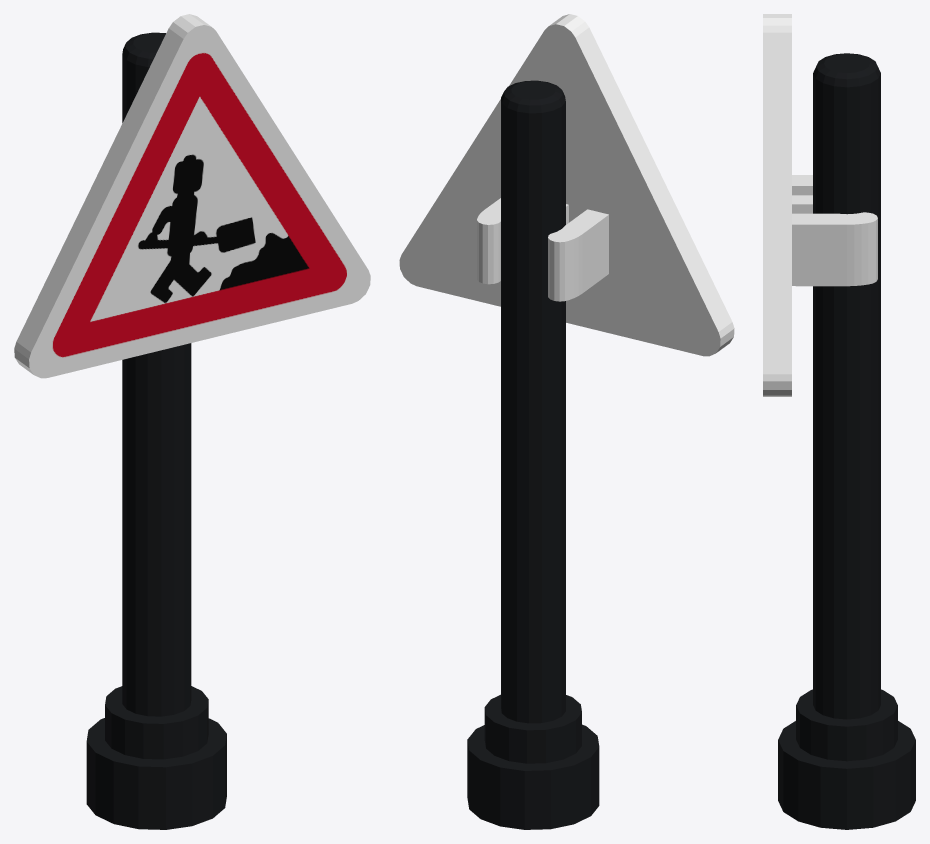
The model's file is Sign.dae.
3 renders of one model, left to right at view 1: azimuth 30°, elevation 25°; view 2: azimuth 150°, elevation 25°; view 3: azimuth 270°, elevation 25°, orthographic. The views are drawn at different scales.
Parts seen in each view (by area): view 1: Part.1, Part.0; view 2: Part.0, Part.1; view 3: Part.0, Part.1.
Part boxes in pixels (x1,y1,x2,y2): Part.1: (14, 14, 370, 378); Part.0: (86, 32, 226, 829); Part.0: (467, 80, 599, 829); Part.1: (399, 14, 734, 356); Part.0: (778, 53, 915, 829); Part.1: (763, 14, 877, 396).
Size of the model in its own units: 18.12 by 40.85 by 7.21.
